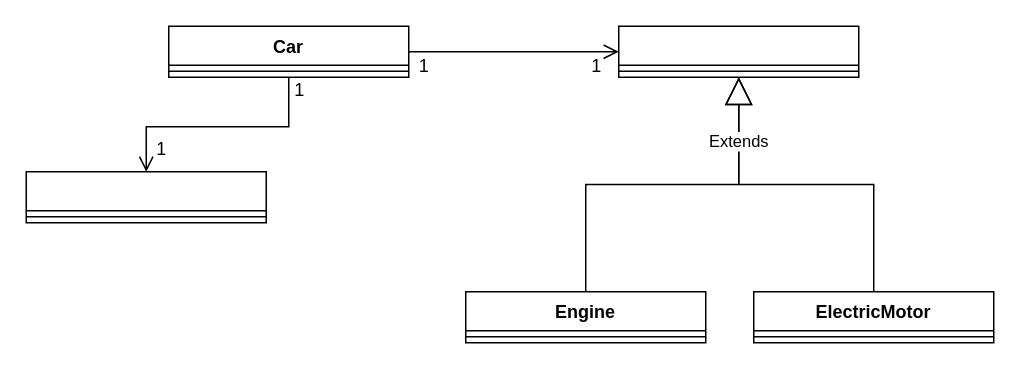
The diagram is 1020 pixels wide and 369 high, and some of its shapes have lost their labels. Each missing label, with the centre of its shape:
Battery: the point at 145,196
Motor: the point at 738,51
